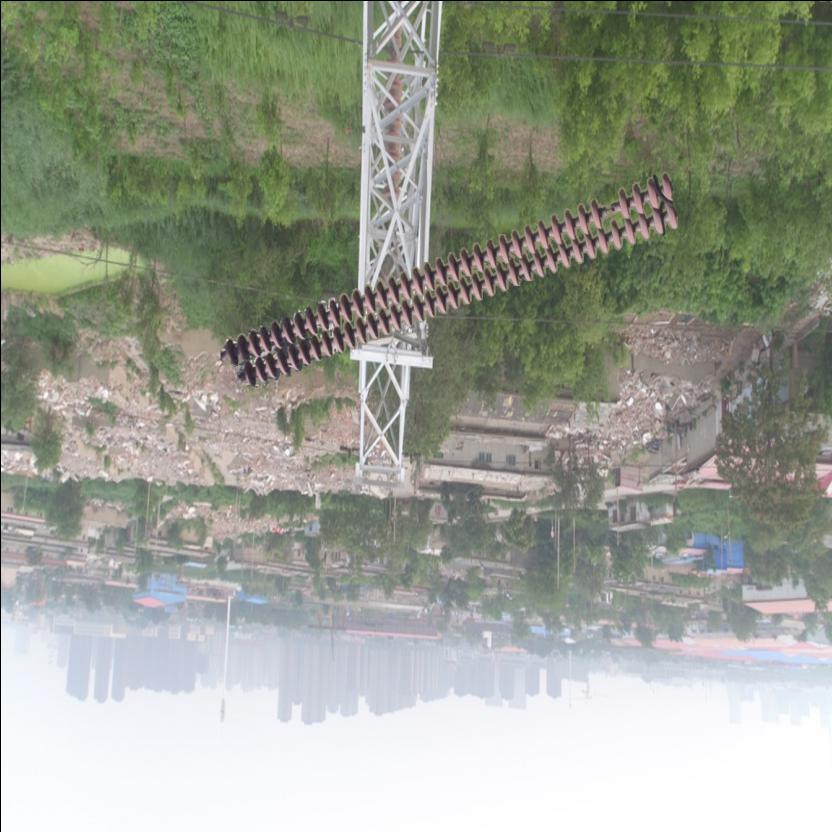defect: (586, 186, 634, 233)
